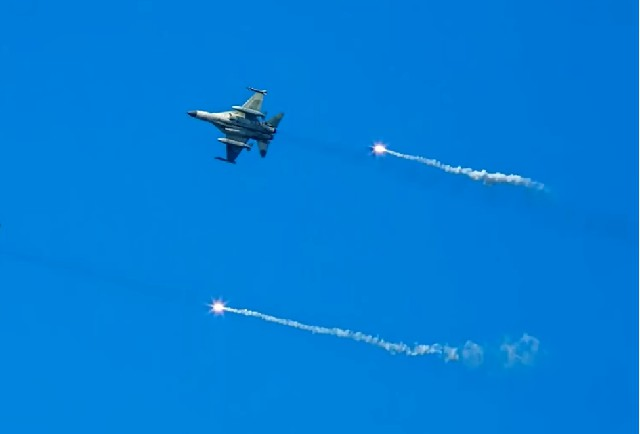maybay_khongnguoilai: (182, 88, 284, 162)
